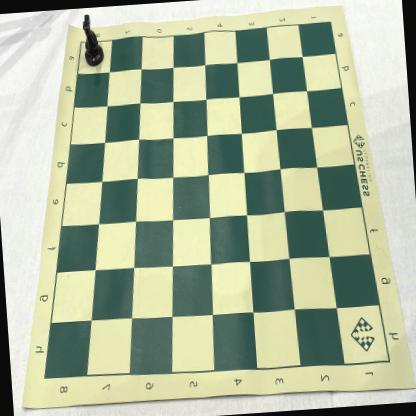black-knight: (80, 13, 106, 68)
